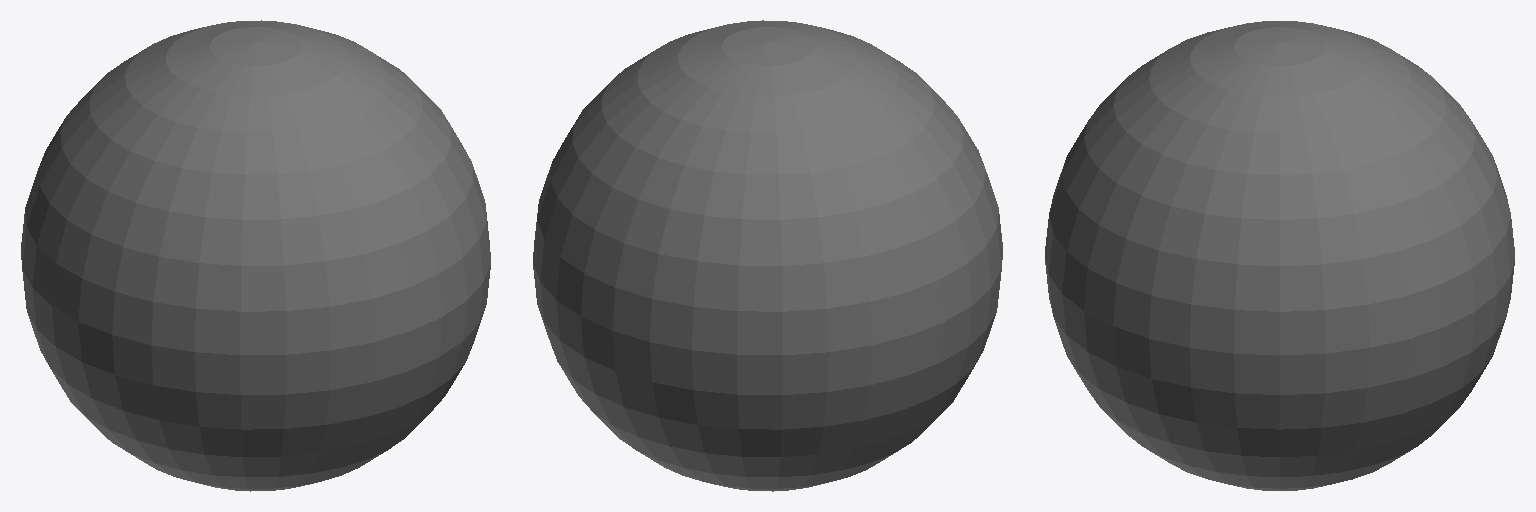
URDF robot description (threedof_manipulator):
<?xml version="1.0" ?>

<robot name="threedof_manipulator">

  <link name="root_link">
    <visual>
      <geometry>
        <mesh filename="/home/robot/studentische-arbeiten/res/Tensegrity/meshes/wrist_upper.stl" scale="0.001 0.001 0.001"/>
      </geometry>
      <material name="grey">
        <color rgba="0.5 0.5 0.5 0.9"/>
      </material>
    </visual>
    <collision>
      <geometry>
        <mesh filename="/home/robot/studentische-arbeiten/res/Tensegrity/meshes/wrist_upper.stl" scale="0.001 0.001 0.001"/>
      </geometry>
    </collision>
    <inertial>
      <mass value="1.9"/> <!-- TODO: 1.9 kg, estimated from CAD model with arm adapt to only wrist -->
      <origin rpy="0 0 0" xyz="0 0 0"/>
      <inertia ixx="0.07286" ixy="0.0" ixz="0.0" iyy="0.01099" iyz="0.0" izz="0.0104"/>  <!-- TODO: Adapt to only wrist -->
    </inertial>
  </link>

   <joint name="wrist_y_joint" type="revolute">
    <parent link="root_link"/>
    <child link="wrist_y_link"/>
    <axis xyz="1 0 0"/>
    <origin rpy="0 0 3.14" xyz="0 0 -0.046"/>
    <limit effort="10.0" lower="-0.8" upper="0.8" velocity="0.5"/>
    <dynamics damping="0.01" friction="0.04"/>
    <!-- damping="0.0036" friction="0.002"-->
  </joint> 

  <link name="wrist_y_link">
    <visual>
      <geometry>
        <sphere radius="0.005"/>
      </geometry>
      <material name="grey">
        <color rgba="0.5 0.5 0.5 1"/>
      </material>
    </visual>
    <collision>
      <geometry>
        <sphere radius="0.005"/>
      </geometry>
    </collision>
    <inertial>
      <mass value="0.0001"/>
      <inertia ixx="1e-6" ixy="0" ixz="0"
               iyy="1e-6" iyz="0"
               izz="1e-6"/>
    </inertial>
  </link>

  <joint name="wrist_x_joint" type="revolute">
    <parent link="wrist_y_link"/>
    <child link="wrist_x_link"/>
    <axis xyz="0 1 0"/>
    <origin rpy="0 0 0" xyz="0 0 0"/>
    <limit effort="10.0" lower="-0.8" upper="0.8" velocity="0.5"/>
    <dynamics damping="0.01" friction="0.04"/>
    <!-- damping="0.0036" friction="0.002"-->
  </joint>  

  <link name="wrist_x_link">
    <visual>
      <geometry>
        <sphere radius="0.005"/>
      </geometry>
      <material name="grey">
        <color rgba="0.5 0.5 0.5 1"/>
      </material>
    </visual>
    <collision>
      <geometry>
        <sphere radius="0.005"/>
      </geometry>
    </collision>
    <inertial>
      <mass value="0.0001"/>
      <inertia ixx="1e-6" ixy="0" ixz="0"
               iyy="1e-6" iyz="0"
               izz="1e-6"/>
    </inertial>
  </link>

  <joint name="wrist_mesh_fixed_joint" type="fixed">
    <origin rpy="3.14 0 2.616" xyz="0 0 -0.0033"/>
    <parent link="wrist_x_link"/>
    <child link="end_effector_link"/>
  </joint>  

  <link name="end_effector_link">
    <visual>
      <geometry>
        <mesh filename="/home/robot/studentische-arbeiten/res/Tensegrity/meshes/Endeffektor.stl" scale="0.001 0.001 0.001"/>
      </geometry>
      <material name="grey">
        <color rgba="0.5 0.5 0.5 1"/>
      </material>
    </visual>
    <collision>
      <geometry>
        <mesh filename="/home/robot/studentische-arbeiten/res/Tensegrity/meshes/Endeffektor.stl" scale="0.001 0.001 0.001"/>
      </geometry>
    </collision>
    <inertial>
      <mass value="0.4"/>
      <origin rpy="0 0 0" xyz="0 0 0"/>
      <inertia ixx="0.000175" ixy="0.0" ixz="0.0" 
               iyy="0.000175" iyz="0.0" 
               izz="0.0000614"/>
    </inertial>
  </link>

  <fixed_frame name="imu_frame">
    <parent link="end_effector_link"/>
    <origin rpy="3.14 0 2.6172" xyz="0 0 0.09"/>
  </fixed_frame>

  <joint name="ee_tool_fixed_joint" type="fixed">
    <origin rpy="0 0 0" xyz="0 0 0.11768"/>
    <parent link="end_effector_link"/>
    <child link="tool_link"/>
  </joint>  

  <link name="tool_link">
    <inertial>
      <mass value="0.0001"/>
      <inertia ixx="1e-6" ixy="0" ixz="0"
               iyy="1e-6" iyz="0"
               izz="1e-6"/>
    </inertial>
    <!-- no <visual>, no <collision> -->
  </link>

</robot>

--- Facts derived from the render (not from the file) ---
The picture shows the robot from 3 angles, left to right: view 1: azimuth 30°, elevation 25°; view 2: azimuth 150°, elevation 25°; view 3: azimuth 270°, elevation 25°; orthographic projection.
Model threedof_manipulator with 5 links and 4 joints (2 revolute, 2 fixed), rooted at root_link, posed every joint at zero.
Links seen in each view (by area): view 1: wrist_y_link; view 2: wrist_y_link; view 3: wrist_y_link.
Boxes of the visible links, bbox=[...] form: wrist_y_link: bbox=[21, 20, 490, 491]; wrist_y_link: bbox=[533, 20, 1002, 491]; wrist_y_link: bbox=[1045, 21, 1514, 490].
Size in the robot's own frame: 0.01 by 0.01 by 0.01 metres.
Geometry: only primitive shapes (box / cylinder / sphere) drawn; not drawn: 2 mesh visuals (reference in a form the renderer does not follow).
